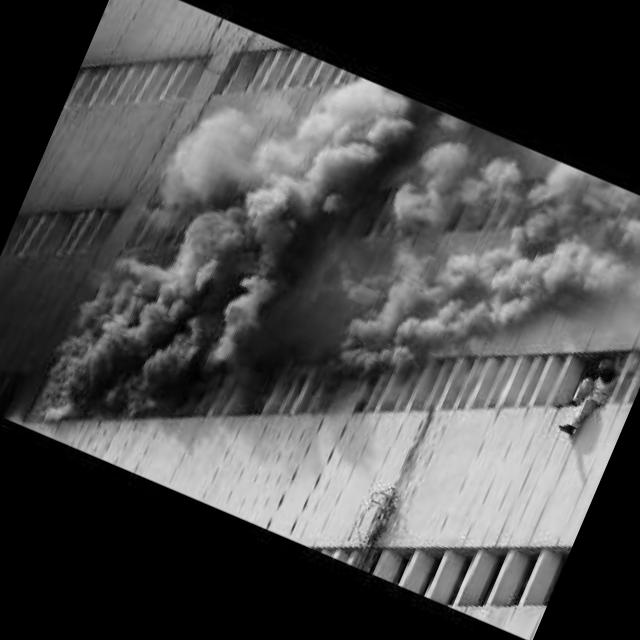smoke: (94, 6, 640, 448), (29, 262, 264, 483), (615, 214, 640, 385)
